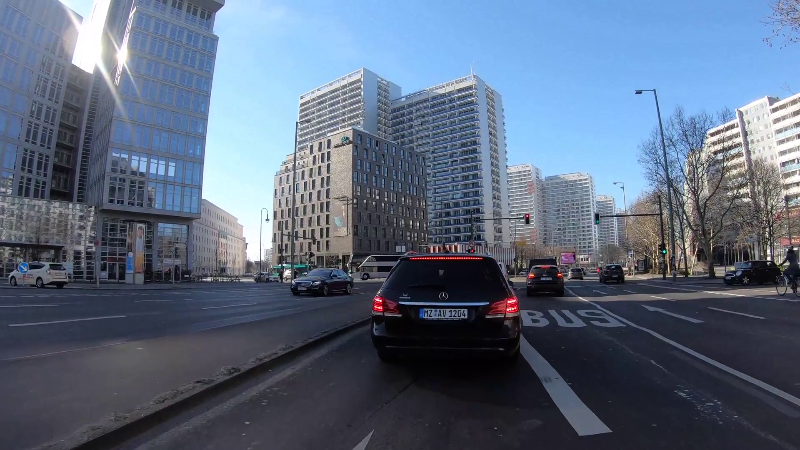Plate: (413, 305, 469, 320)
